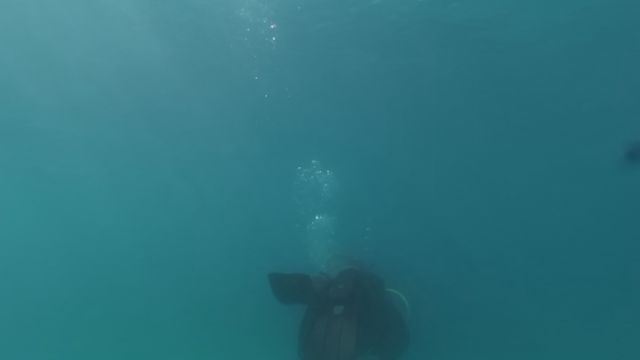Diver: (257, 248, 422, 357)
